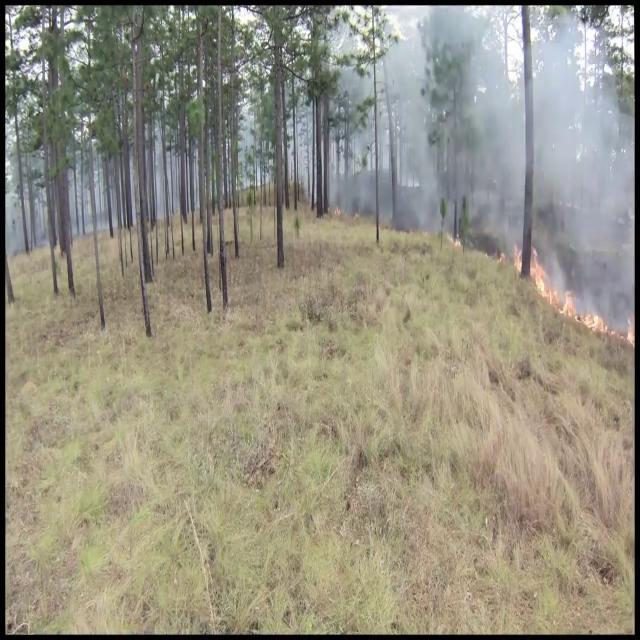Fire: (527, 245, 574, 319)
Smoke: (392, 7, 636, 306)
